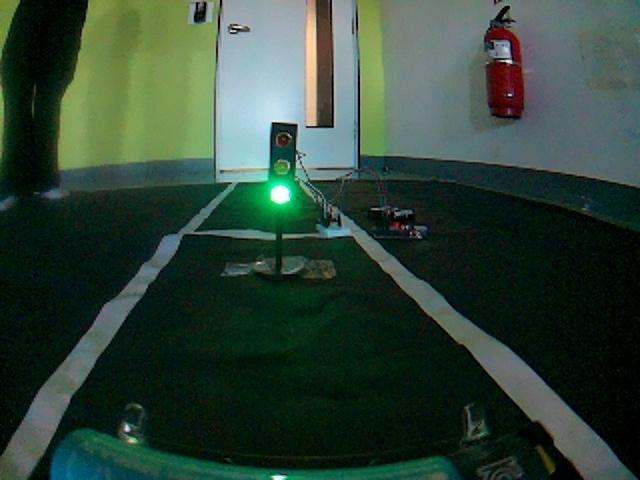go: (26, 298, 605, 480)
green_light: (184, 116, 363, 287)
